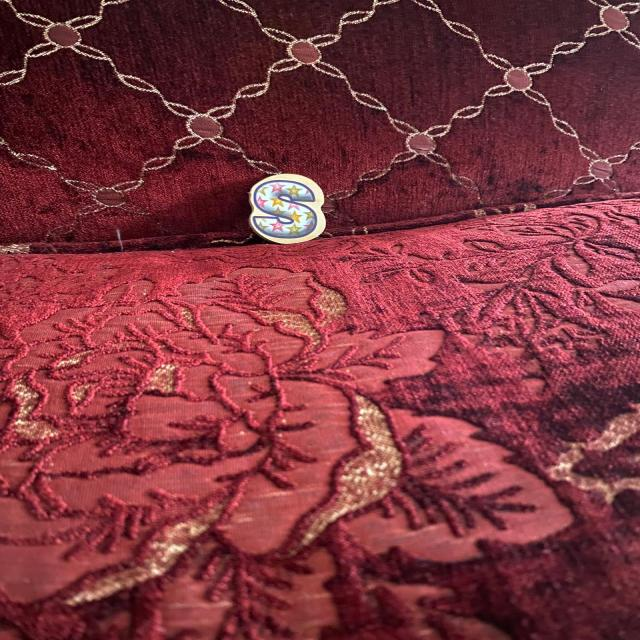S: (249, 174, 325, 244)
